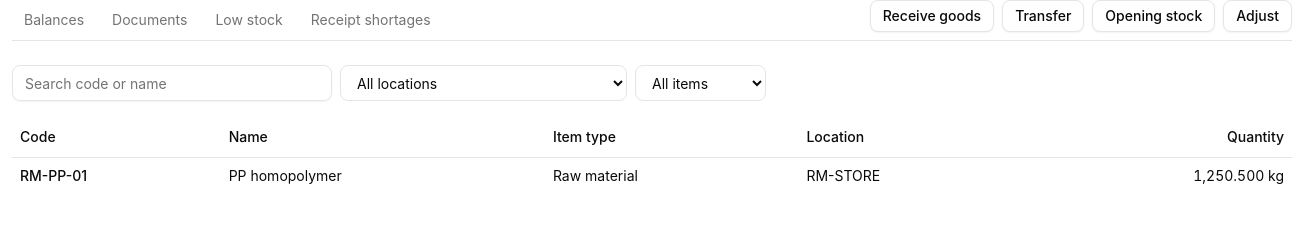
Scenario: balances › lists stock by code and opens the stock card with a running balance
Click the link "RM-PP-01": (54, 175) left=20, top=166, right=87, bottom=184
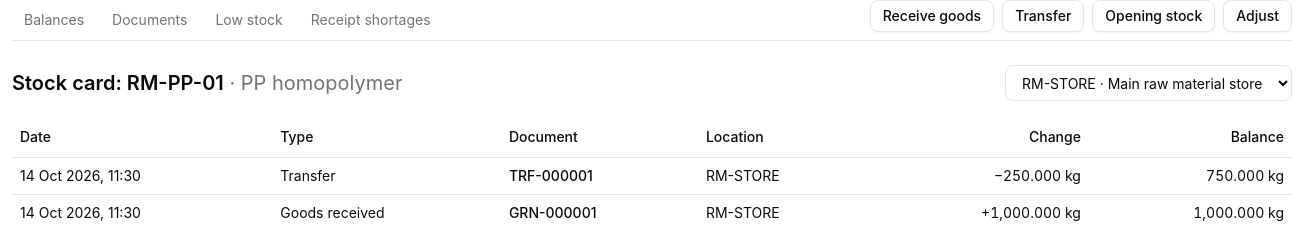
Expected: the link "TRF-000001" is shown, left=509, top=166, right=593, bottom=184
Expected: the text "−250.000 kg" is shown, left=869, top=157, right=1089, bottom=194
Expected: the text "750.000 kg" is shown, left=1089, top=157, right=1292, bottom=194
